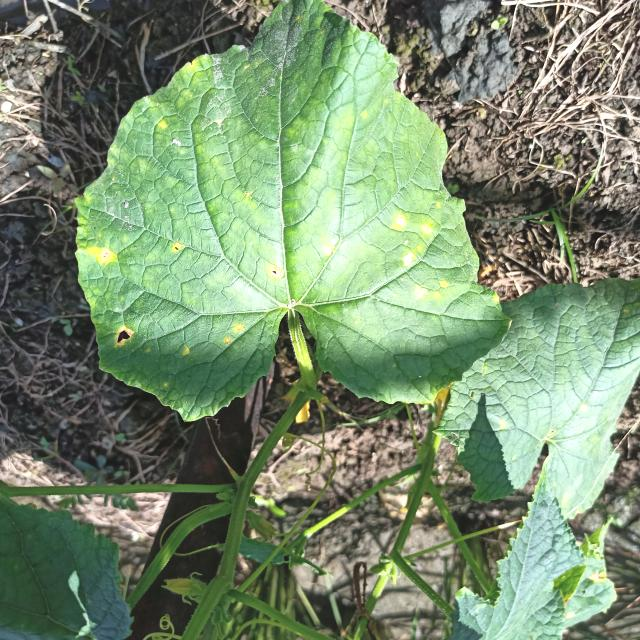disease_cucumber: (389, 214, 449, 303), (85, 243, 124, 266), (225, 320, 245, 345), (114, 324, 135, 347), (266, 263, 286, 278), (322, 243, 335, 258), (172, 242, 182, 251)
